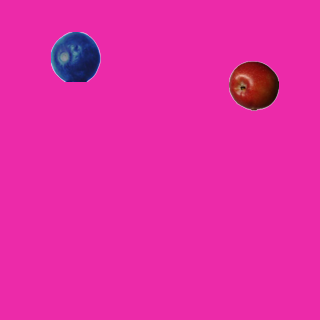Apple Braeburn: (228, 60, 278, 110)
Huckleberry: (50, 31, 100, 81)
